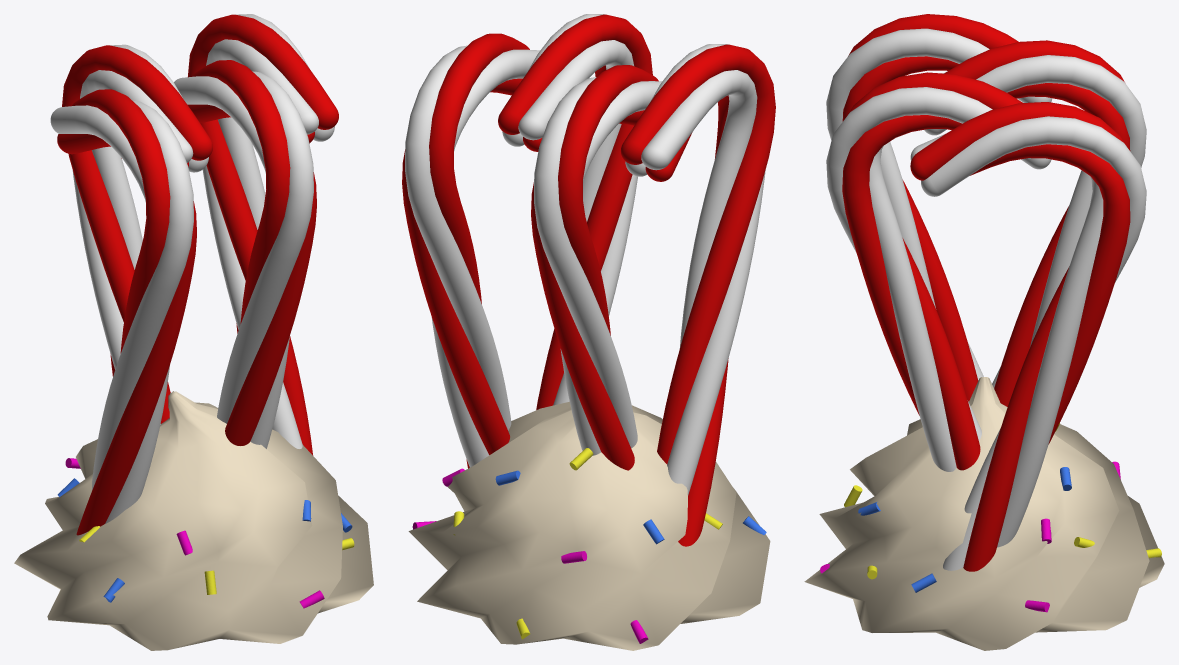
Rendered from CandyCane.fbx.
3 renders of one model, left to right at view 1: azimuth 30°, elevation 25°; view 2: azimuth 150°, elevation 25°; view 3: azimuth 270°, elevation 25°, orthographic. The views are drawn at different scales.
Visible parts, largest first — view 1: cream.003, Red Candy Cane.006, Red Candy Cane.004, Red Candy Cane.003, Red Candy Cane.005; view 2: cream.003, Red Candy Cane.006, Red Candy Cane.003, Red Candy Cane.005, Red Candy Cane.004; view 3: cream.003, Red Candy Cane.003, Red Candy Cane.004, Red Candy Cane.005, Red Candy Cane.006.
Part boxes in pixels (x1,y1,x2,y2): cream.003: (14,391,373,650); Red Candy Cane.006: (50,89,196,535); Red Candy Cane.004: (174,60,316,448); Red Candy Cane.003: (188,14,338,455); Red Candy Cane.005: (62,44,212,424); cream.003: (408,401,770,650); Red Candy Cane.006: (621,44,775,546); Red Candy Cane.003: (402,33,540,468); Red Candy Cane.005: (531,65,662,470); Red Candy Cane.004: (498,14,652,409); cream.003: (804,377,1164,650); Red Candy Cane.003: (910,102,1146,571); Red Candy Cane.004: (826,72,1051,471); Red Candy Cane.005: (924,40,1146,406); Red Candy Cane.006: (826,14,1052,401).
Size of the model in its own units: 200 by 318 by 200.
